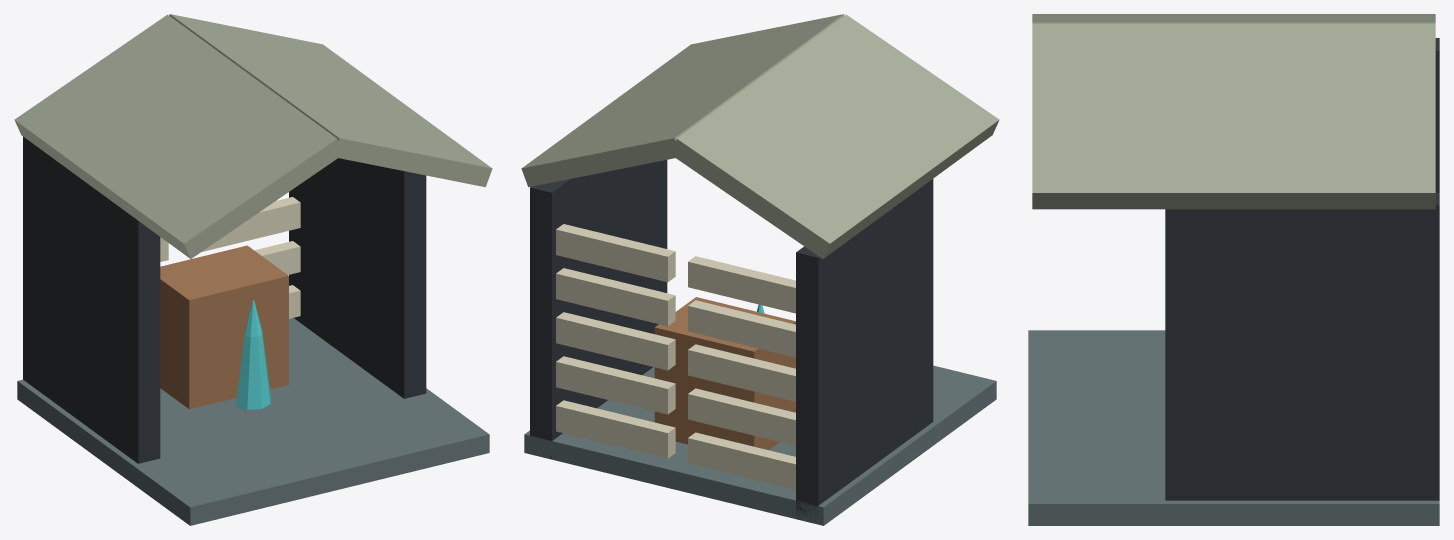
Rendered from shutter_chapel.fbx.
The picture shows the model from 3 angles, left to right: view 1: azimuth 30°, elevation 25°; view 2: azimuth 150°, elevation 25°; view 3: azimuth 270°, elevation 25°; orthographic projection. The views are drawn at different scales.
Visible parts, largest first — view 1: chapel_roof_-1, chapel_floor, chapel_wall_-1, chapel_wall_1, chapel_roof_1, chapel_altar, source_splinter.002, chapel_shutter_1_2, chapel_shutter_1_1; view 2: chapel_roof_-1, chapel_wall_-1, chapel_wall_1, chapel_roof_1, chapel_floor, chapel_altar, chapel_shutter_1_1, chapel_shutter_1_0, chapel_shutter_1_2, chapel_shutter_1_3, chapel_shutter_1_4, chapel_shutter_-1_2 (+4 smaller); view 3: chapel_wall_1, chapel_roof_1, chapel_floor, chapel_roof_-1, chapel_wall_-1.
Boxes of the visible parts, left/top/right/bottom form: chapel_roof_-1: left=14, top=14, right=343, bottom=258; chapel_floor: left=17, top=318, right=489, bottom=525; chapel_wall_-1: left=23, top=136, right=160, bottom=463; chapel_wall_1: left=289, top=158, right=426, bottom=398; chapel_roof_1: left=169, top=14, right=492, bottom=187; chapel_altar: left=160, top=245, right=288, bottom=409; source_splinter.002: left=236, top=300, right=271, bottom=409; chapel_shutter_1_2: left=202, top=197, right=300, bottom=251; chapel_shutter_1_1: left=254, top=241, right=300, bottom=274; chapel_roof_-1: left=670, top=14, right=999, bottom=258; chapel_wall_-1: left=796, top=179, right=933, bottom=521; chapel_wall_1: left=530, top=160, right=667, bottom=458; chapel_roof_1: left=521, top=14, right=844, bottom=187; chapel_floor: left=524, top=365, right=996, bottom=525; chapel_altar: left=654, top=297, right=795, bottom=450; chapel_shutter_1_1: left=556, top=356, right=675, bottom=414; chapel_shutter_1_0: left=556, top=400, right=675, bottom=458; chapel_shutter_1_2: left=556, top=312, right=675, bottom=370; chapel_shutter_1_3: left=556, top=268, right=675, bottom=326; chapel_shutter_1_4: left=556, top=224, right=675, bottom=282; chapel_shutter_-1_2: left=688, top=344, right=795, bottom=401; chapel_wall_1: left=1165, top=192, right=1439, bottom=500; chapel_roof_1: left=1032, top=23, right=1435, bottom=209; chapel_floor: left=1028, top=330, right=1439, bottom=525; chapel_roof_-1: left=1032, top=14, right=1435, bottom=23; chapel_wall_-1: left=1435, top=38, right=1439, bottom=192.
Size of the model in its own units: 278 by 302 by 270.
